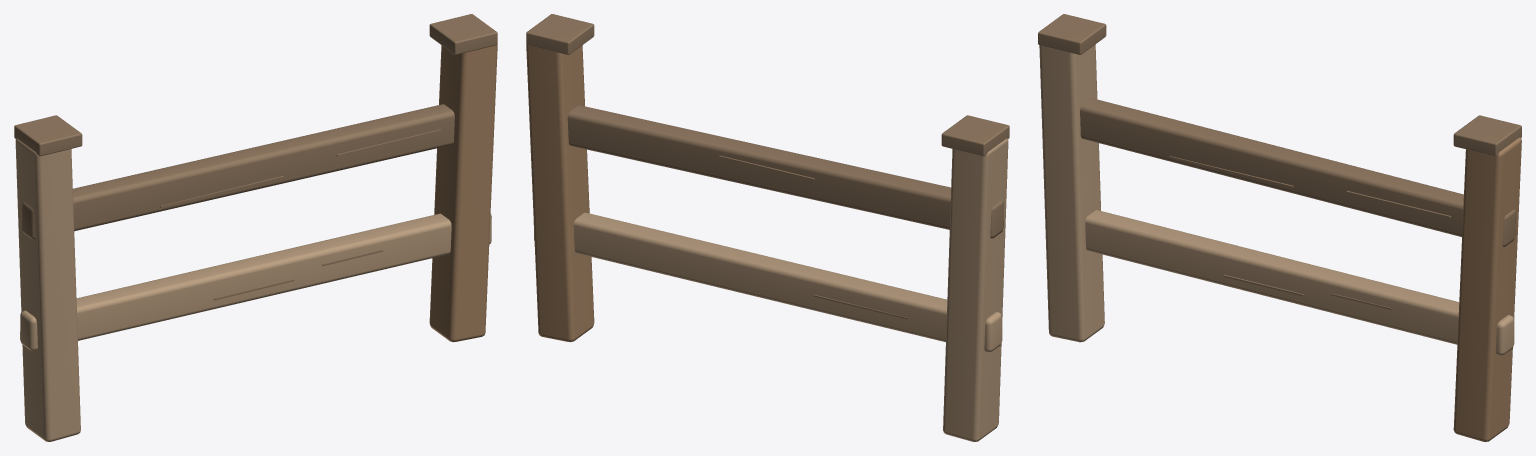
Rendered from Thanksgiving_Rustic_Fence.glb.
3 views of the same model, side by side, from view 1: azimuth 30°, elevation 25°; view 2: azimuth 150°, elevation 25°; view 3: azimuth 330°, elevation 25° (orthographic).
Visible parts, largest first — view 1: Weathered split rail, Weathered split rail.001, Irregular fence post, Irregular fence post.001, Rough post cap.001, Rough post cap; view 2: Weathered split rail.001, Weathered split rail, Irregular fence post, Irregular fence post.001, Rough post cap.001, Rough post cap; view 3: Weathered split rail.001, Weathered split rail, Irregular fence post.001, Irregular fence post, Rough post cap, Rough post cap.001.
Boxes of the visible parts, x1,y1,x2,y2 form: Weathered split rail: (20, 213, 491, 350); Weathered split rail.001: (21, 104, 454, 239); Irregular fence post: (15, 138, 80, 441); Irregular fence post.001: (429, 44, 497, 342); Rough post cap.001: (429, 14, 497, 54); Rough post cap: (14, 115, 82, 156); Weathered split rail.001: (567, 105, 1003, 238); Weathered split rail: (533, 212, 1002, 352); Irregular fence post: (943, 138, 1008, 441); Irregular fence post.001: (526, 44, 594, 342); Rough post cap.001: (526, 14, 594, 54); Rough post cap: (941, 115, 1009, 156); Weathered split rail.001: (1080, 98, 1515, 246); Weathered split rail: (1085, 210, 1514, 355); Irregular fence post.001: (1453, 137, 1521, 441); Irregular fence post: (1039, 44, 1104, 342); Rough post cap: (1038, 14, 1106, 54); Rough post cap.001: (1453, 115, 1521, 156).
Size of the model in its own units: 2.56 by 1.61 by 0.25.
